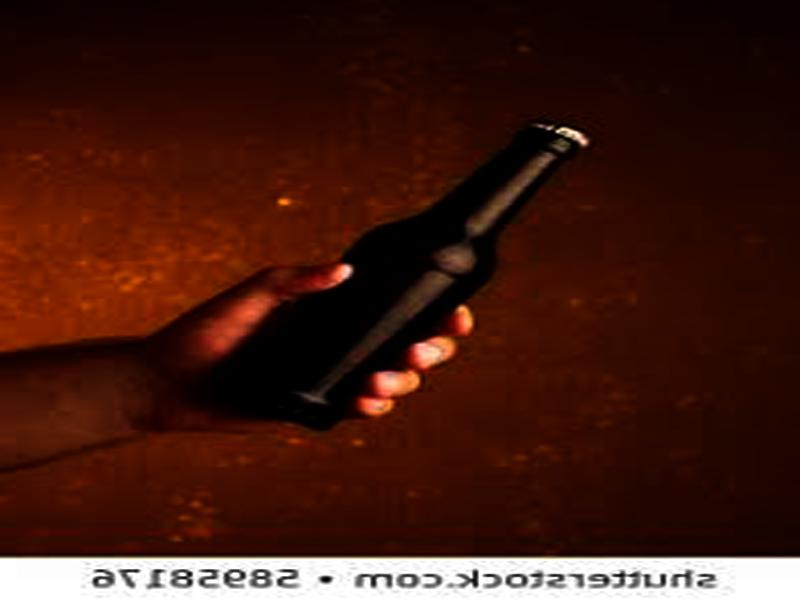Beer: (195, 119, 595, 430)
